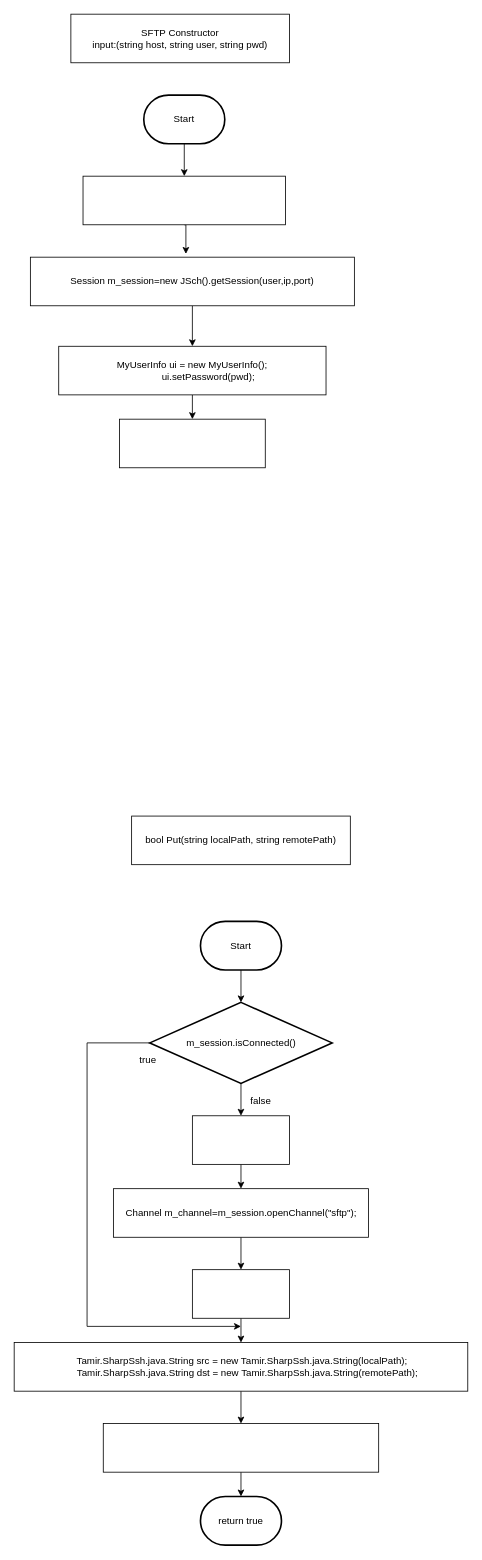
Image size: 482x1560. Some labels were removed from this diagram. The shapes that lost their labels are listed below. From the top down, each one's centre as x and y in pixels, then its label:
At [184,200]: "':' to split host in arr[] ip is arr[0] int port=int.Parse(arr[1])".
At [192,443]: "m_session.setUserInfo(ui);".
At [241,1139]: "m_session.connect()".
At [241,1293]: "m_channel.connect();".
At [240,1447]: "(ChannelSftp)m_channel.put(src,dst)".
